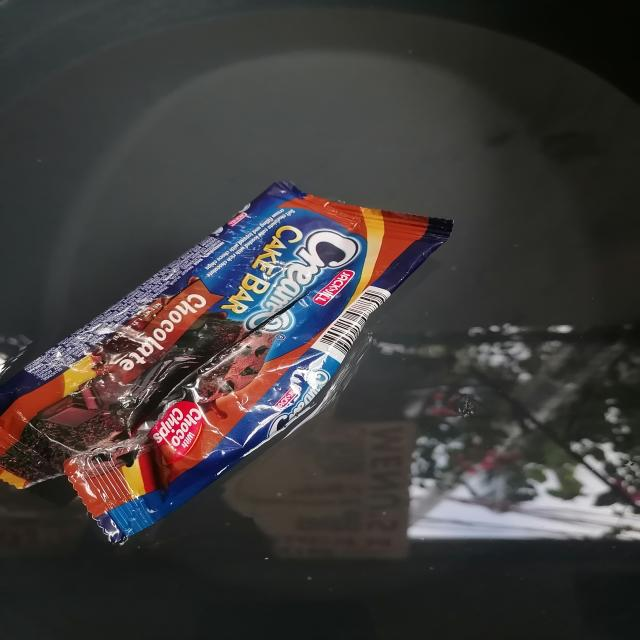Plastic Wrapper: (0, 183, 453, 543)
